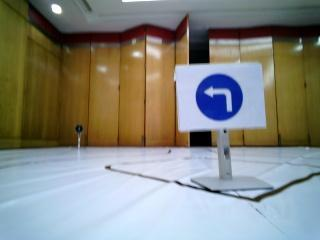left: (177, 66, 262, 127)
